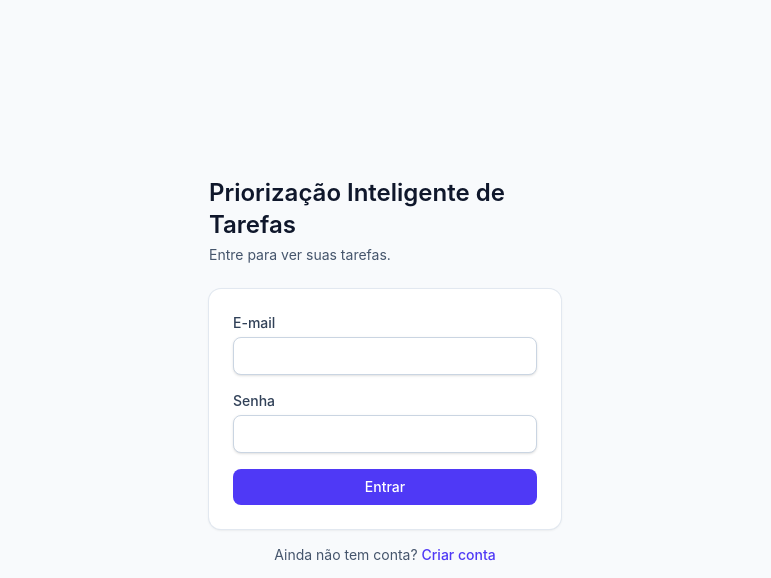
Test: App › sem sessão manda para o login, entra e lista as tarefas
This screenshot has width=771, height=578.
Type "ana@exemplo.com" into the field labelled "E-mail" at (385, 356), box 233,337 -> 537,375
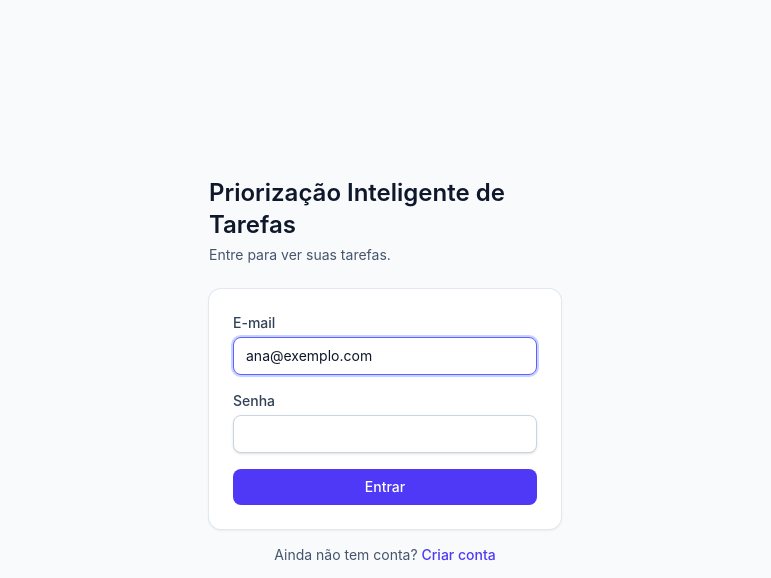
Type "segredo123" into the password field labelled "Senha" at (385, 434), box 233,415 -> 537,453
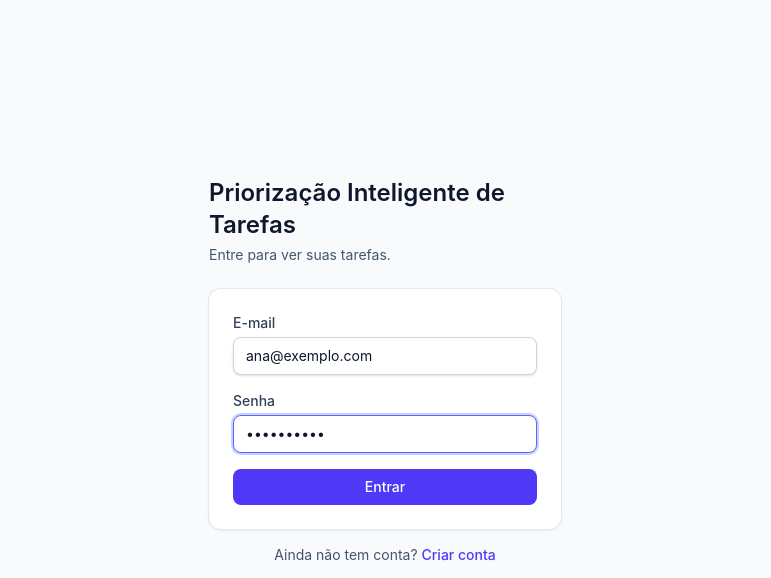
Click the button "Entrar" at (385, 487), box 233,469 -> 537,505
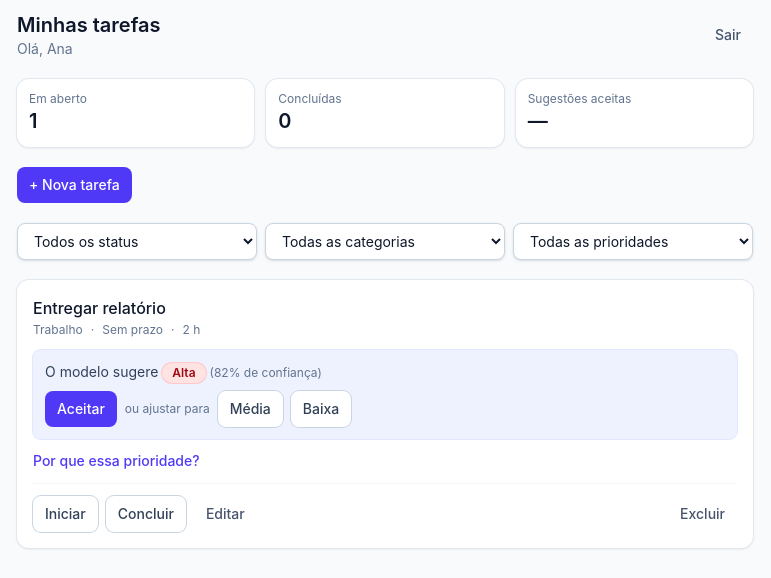
Check: the heading "Entregar relatório" is shown, box 33,298 -> 166,318
Check: the text "Olá, Ana" is shown, box 17,40 -> 73,57
